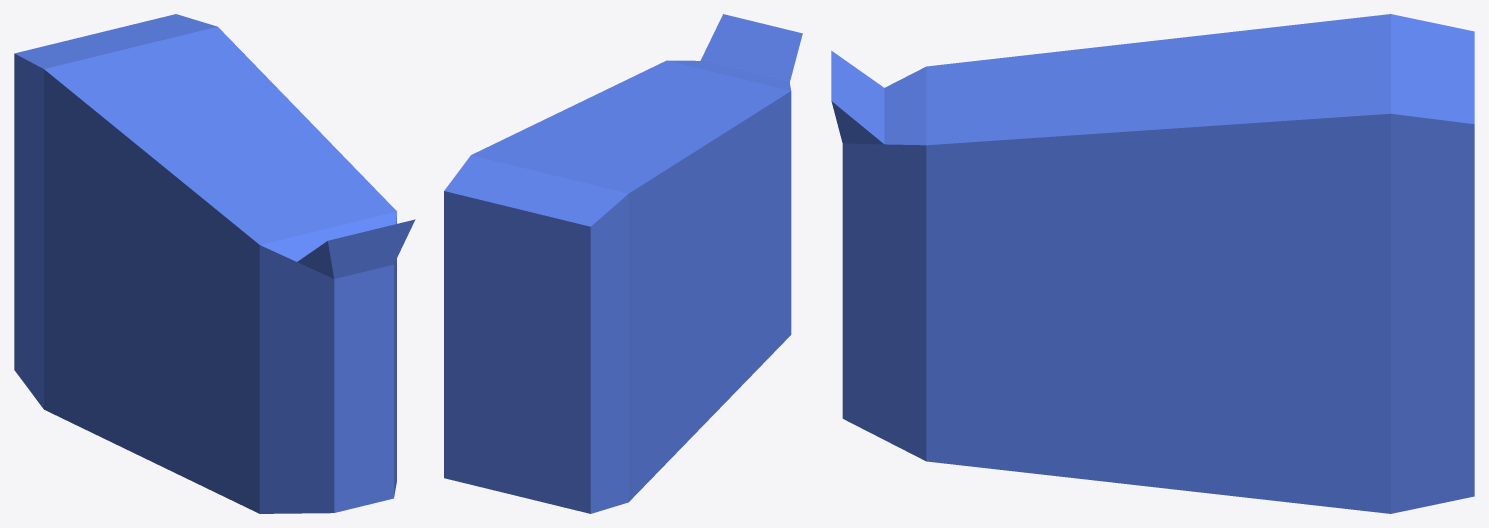
Rendered from CasterSugarBag.obj.
3 views of the same model, side by side, from view 1: azimuth 30°, elevation 25°; view 2: azimuth 150°, elevation 25°; view 3: azimuth 270°, elevation 25° (orthographic). The views are drawn at different scales.
Visible parts, largest first — view 1: bag.000_bag.001; view 2: bag.000_bag.001; view 3: bag.000_bag.001.
Boxes of the visible parts, left/top/right/bottom form: bag.000_bag.001: left=14, top=14, right=415, bottom=513; bag.000_bag.001: left=444, top=14, right=802, bottom=513; bag.000_bag.001: left=831, top=14, right=1474, bottom=513.
Size of the model in its own units: 0.1101 by 0.2059 by 0.2999.
